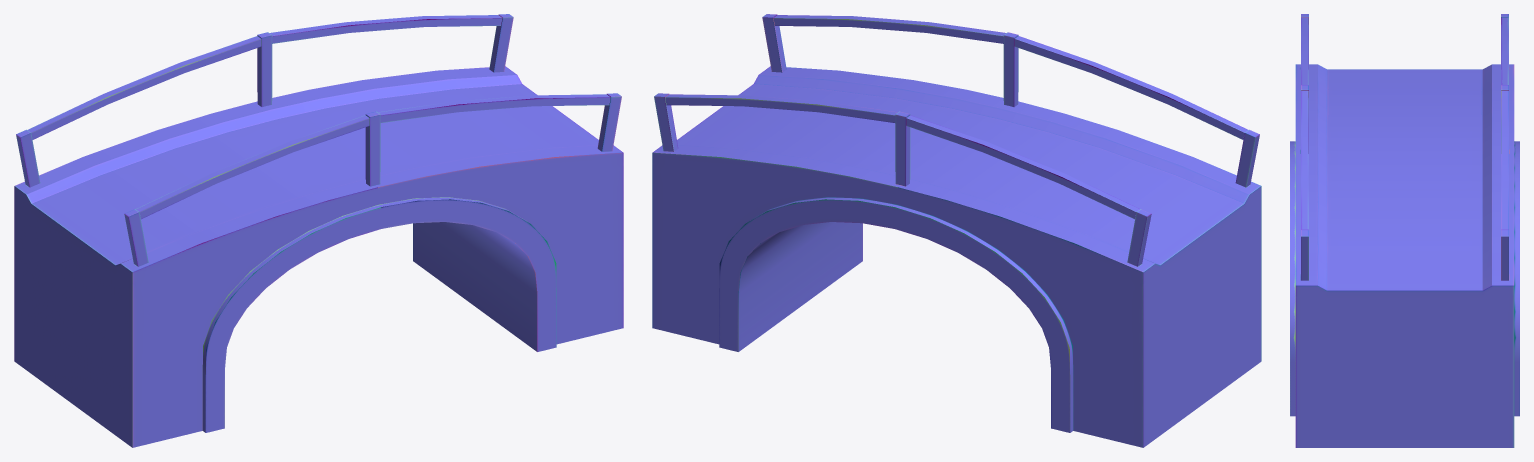
Rendered from StoneFootBridgeLP.FBX.
3 renders of one model, left to right at view 1: azimuth 30°, elevation 25°; view 2: azimuth 150°, elevation 25°; view 3: azimuth 270°, elevation 25°, orthographic. The views are drawn at different scales.
Visible parts, largest first — view 1: Cylinder001; view 2: Cylinder001; view 3: Cylinder001.
Part boxes in pixels (box(x1,y1,x2,y2)): Cylinder001: box(14, 14, 623, 447); Cylinder001: box(652, 14, 1261, 447); Cylinder001: box(1290, 14, 1519, 447).
Size of the model in its own units: 225 by 118 by 98.37.
Materials: 1 (1 with a texture image).
